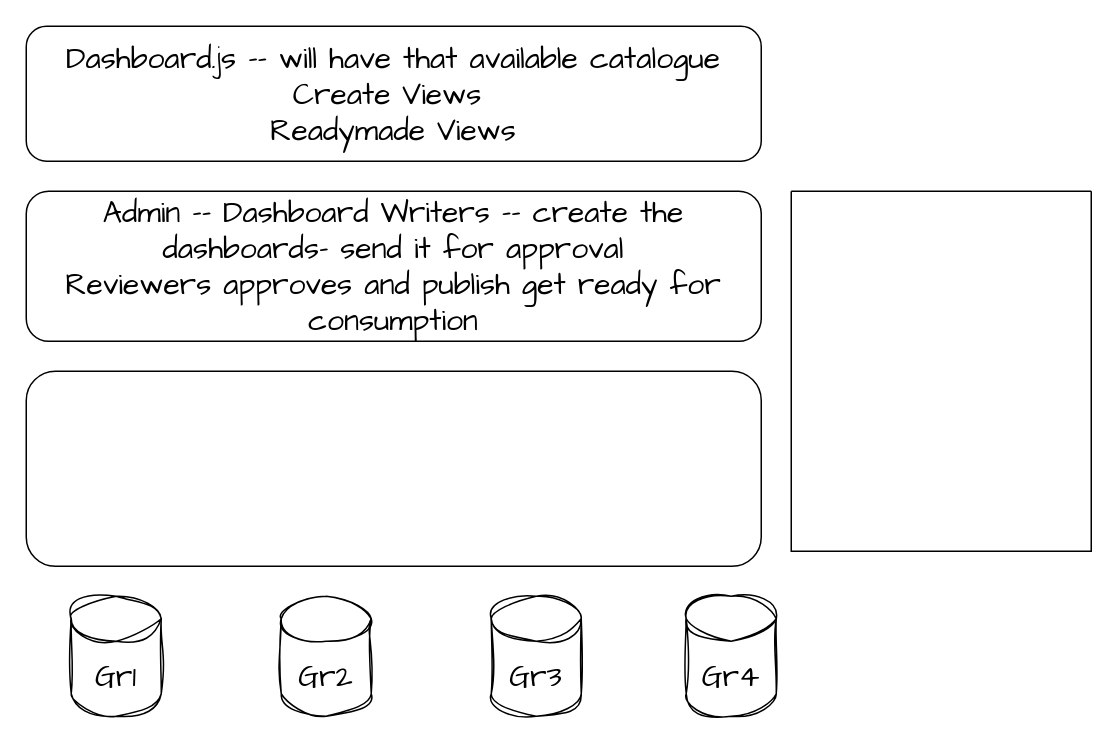
This 1118x743 diagram has some shape labels left out. The shapes that lost their labels are listed below. From the top down, each one's centre as x and y in pixels, then its label:
At [940,370]: "50 Engineers".
At [393,468]: "db1-1, db1-2,db1-3 db2-1, db2-2,db2-3 db3-1, db3-2,db3-3".
